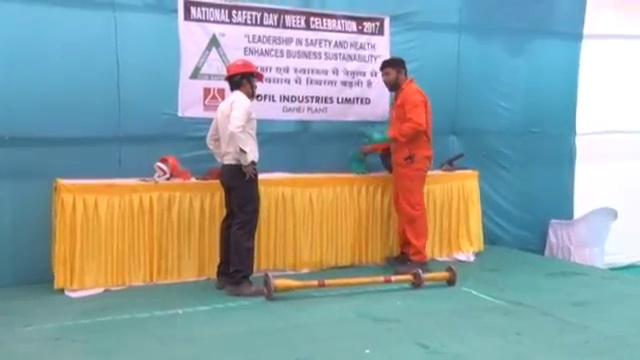helmet: (221, 58, 264, 82)
helmet_off: (377, 56, 408, 92)
helmet_on: (221, 60, 263, 101)
person: (374, 56, 434, 272), (212, 58, 266, 292)
